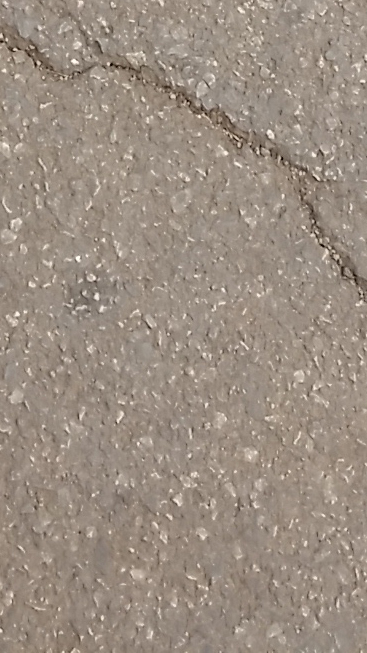A: (1, 13, 355, 316)
